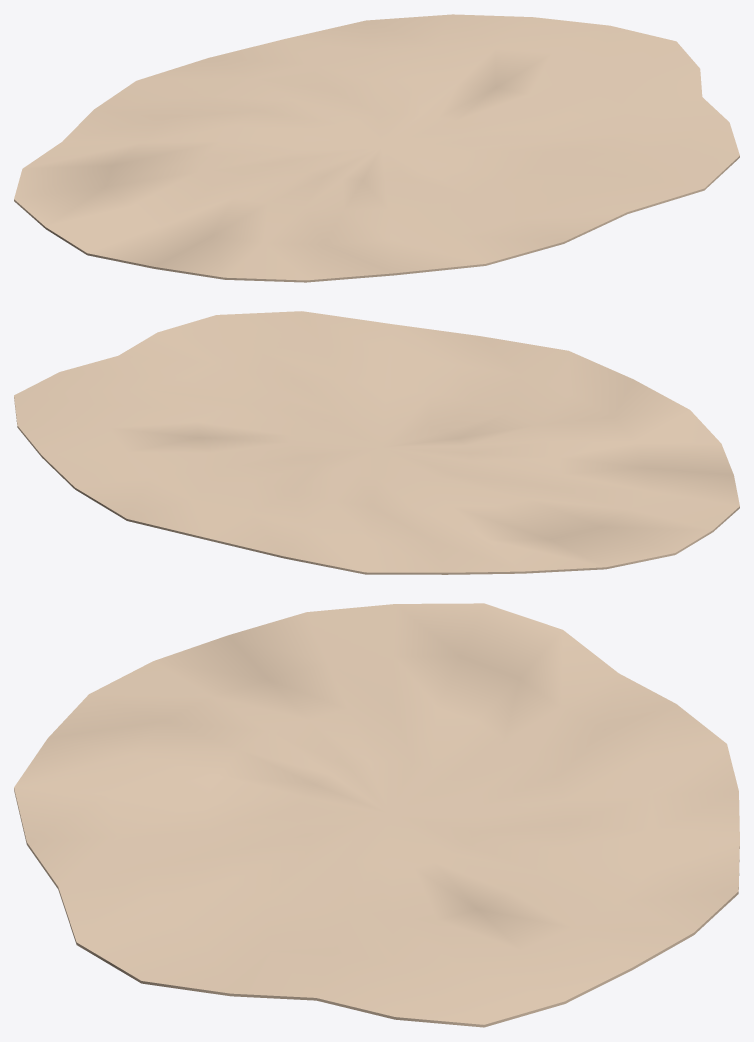
Rendered from heath_grouse_skin.glb.
3 views of the same model, one above another, from view 1: azimuth 30°, elevation 25°; view 2: azimuth 150°, elevation 25°; view 3: azimuth 270°, elevation 25° (orthographic). The views are drawn at different scales.
Visible parts, largest first — view 1: heath_grouse_skin; view 2: heath_grouse_skin; view 3: heath_grouse_skin.
Boxes of the visible parts, x1=… form: heath_grouse_skin: x1=14, y1=14, x2=739, y2=282; heath_grouse_skin: x1=14, y1=311, x2=739, y2=574; heath_grouse_skin: x1=14, y1=603, x2=739, y2=1027.
Bounding box in the file's own units: 0.15 × 0.002 × 0.11.
